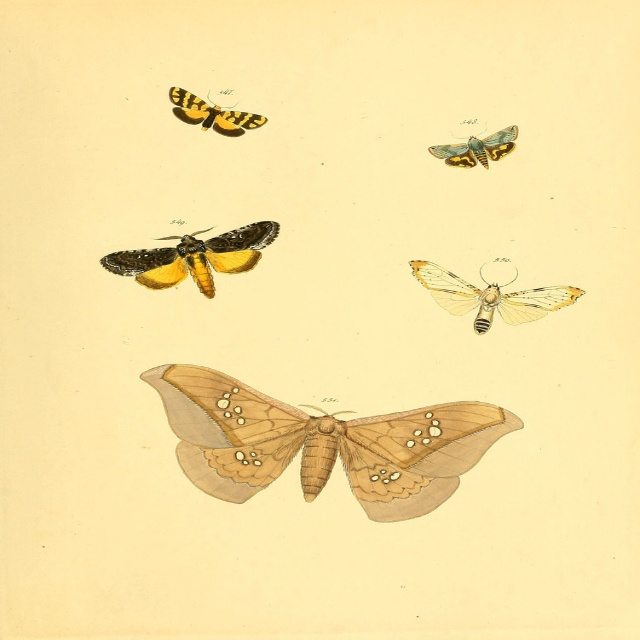Butterfly: (156, 374, 520, 518), (88, 219, 280, 300), (400, 259, 588, 333), (163, 86, 267, 141), (428, 123, 516, 171)
